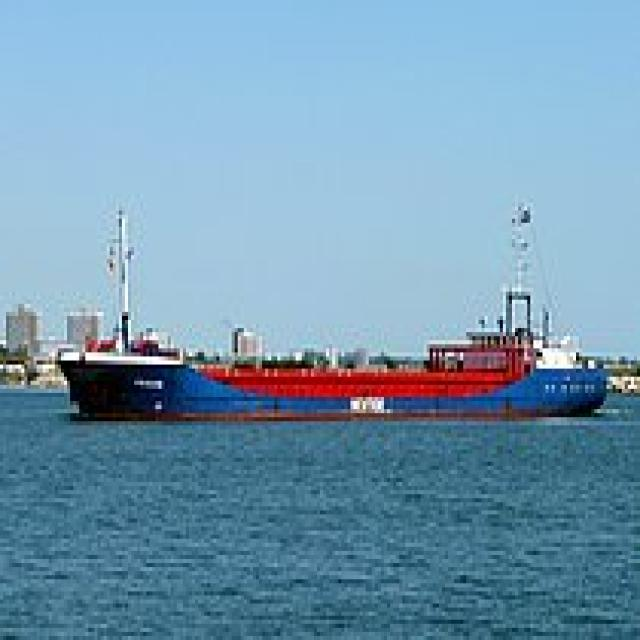Cargo: (52, 203, 606, 417)
